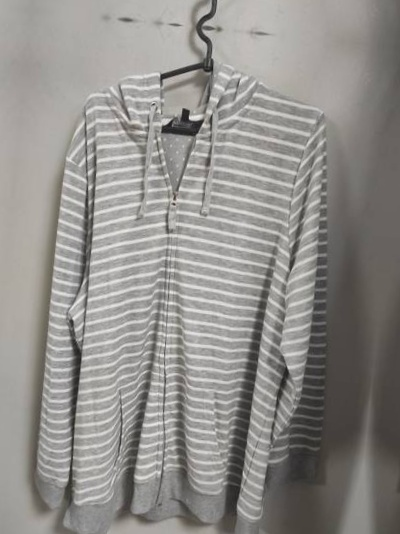Hoodie: (15, 38, 354, 534), (69, 0, 400, 18)
